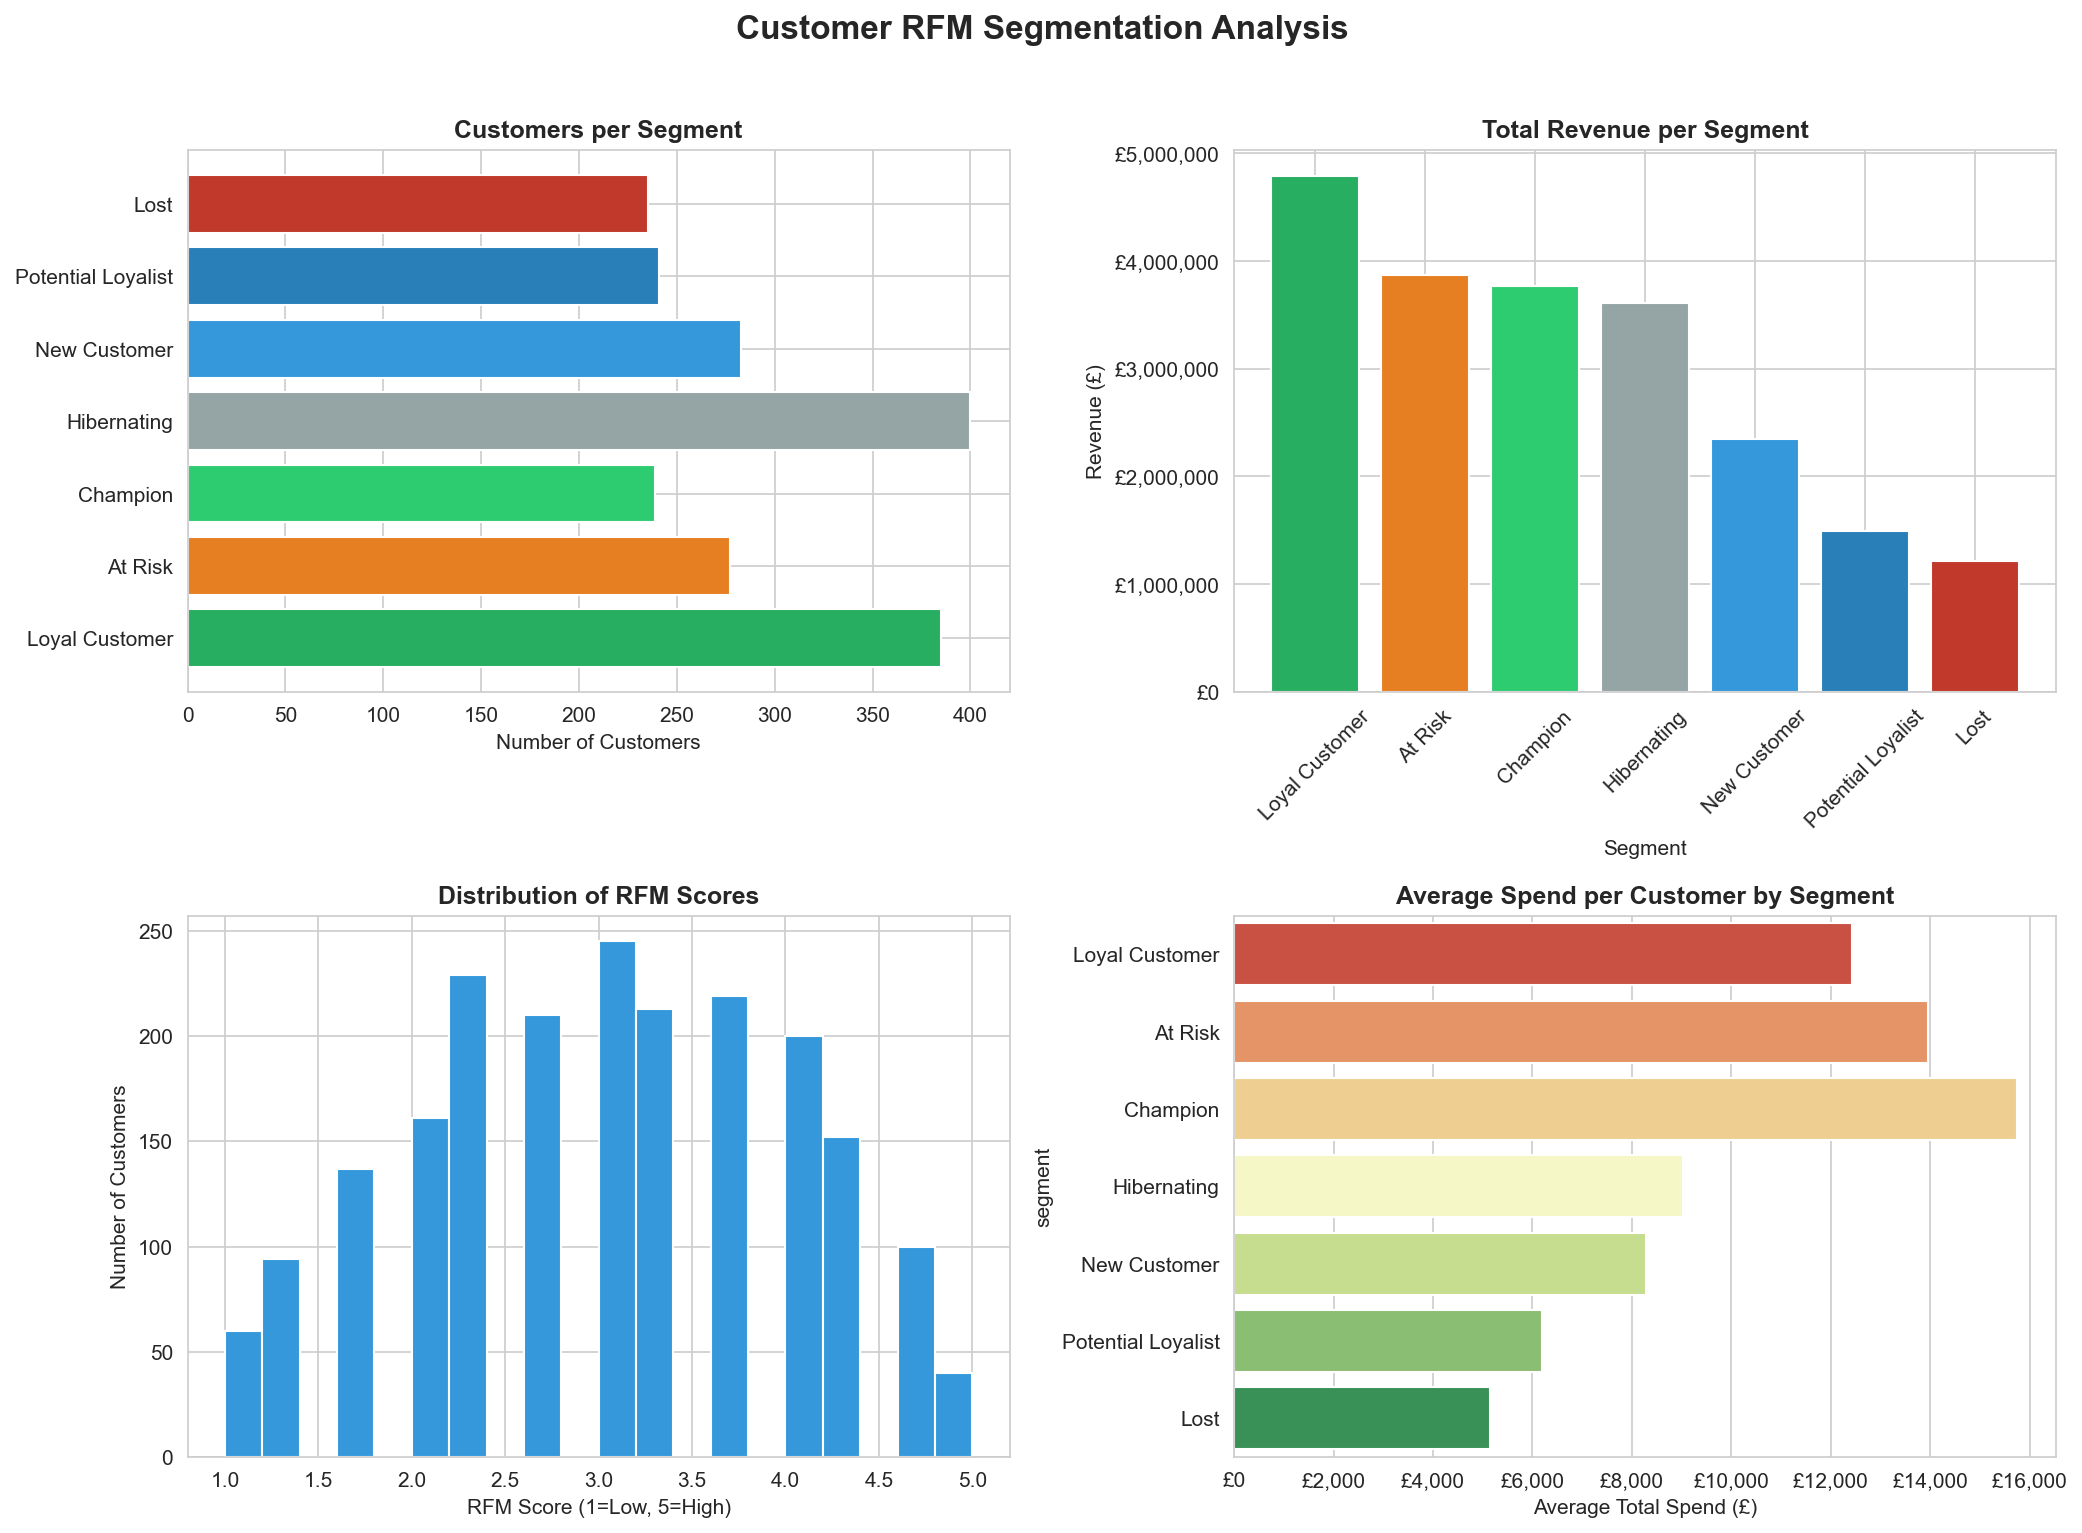

The page's visual inventory and layout, read from the dashboard file:
{"tool":"powerbi","page":{"name":"RFM Segments","canvas":[1280,720],"ordinal":1},"visuals":[{"type":"clusteredBarChart","title":"Customer by segment","fields":{"Category":["public customer_rfm.segment"],"Y":["CountNonNull(public customer_rfm.customer_id)"]},"box":[892.6,447.1,387.4,254.2],"z":0},{"type":"clusteredBarChart","title":"Total Revenue By Segment","fields":{"Category":["public customer_rfm.segment"],"Y":["Sum(public customer_rfm.monetary)"]},"box":[494.5,447.1,387.4,254.2],"z":1000},{"type":"clusteredColumnChart","title":"Average RFM Score by Segment","fields":{"Category":["public customer_rfm.segment"],"Y":["Avg(public customer_rfm.rfm_score)"]},"box":[0,447.1,454.7,254.2],"z":2000},{"type":"tableEx","title":"Customer RFM Detail","fields":{"Values":["public customers.full_name","public customer_rfm.segment","Sum(public customer_rfm.f_score)","Sum(public customer_rfm.m_score)","Sum(public customer_rfm.r_score)","Sum(public customer_rfm.monetary)","public customers.region"]},"box":[0,67.4,834.4,361.3],"z":3000},{"type":"slicer","fields":{"Values":["public customer_rfm.segment"]},"box":[892.6,67.4,362.9,235.8],"z":4000}]}

Visuals, with their boxes on the page's 1280x720 design canvas (x1, y1, x2, y2). These are canvas units, not pixel positions in the 2082x1533 screenshot, which may show the page scaled, cropped or inside an application window:
"Customer by segment" clusteredBarChart: select_region(893, 447, 1280, 701)
"Total Revenue By Segment" clusteredBarChart: select_region(494, 447, 882, 701)
"Average RFM Score by Segment" clusteredColumnChart: select_region(0, 447, 455, 701)
"Customer RFM Detail" tableEx: select_region(0, 67, 834, 429)
slicer - public customer_rfm.segment: select_region(893, 67, 1256, 303)
